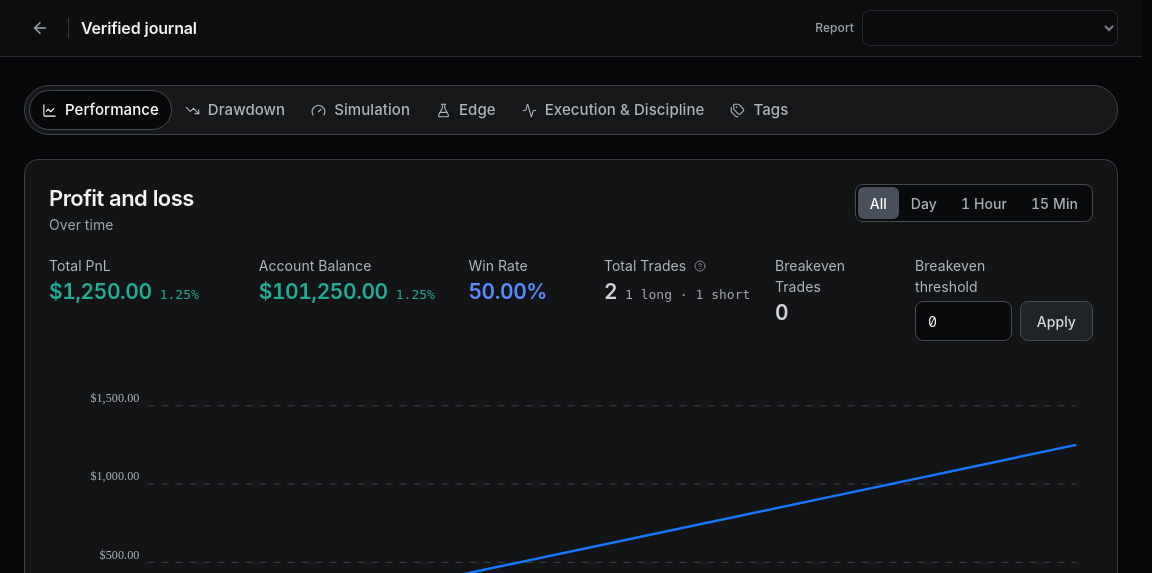
Test: Decision Intelligence registration › loads both decision tabs from their backend endpoints
Click the tab "Edge" at (466, 110), box x1=423 y1=90 x2=509 y2=130
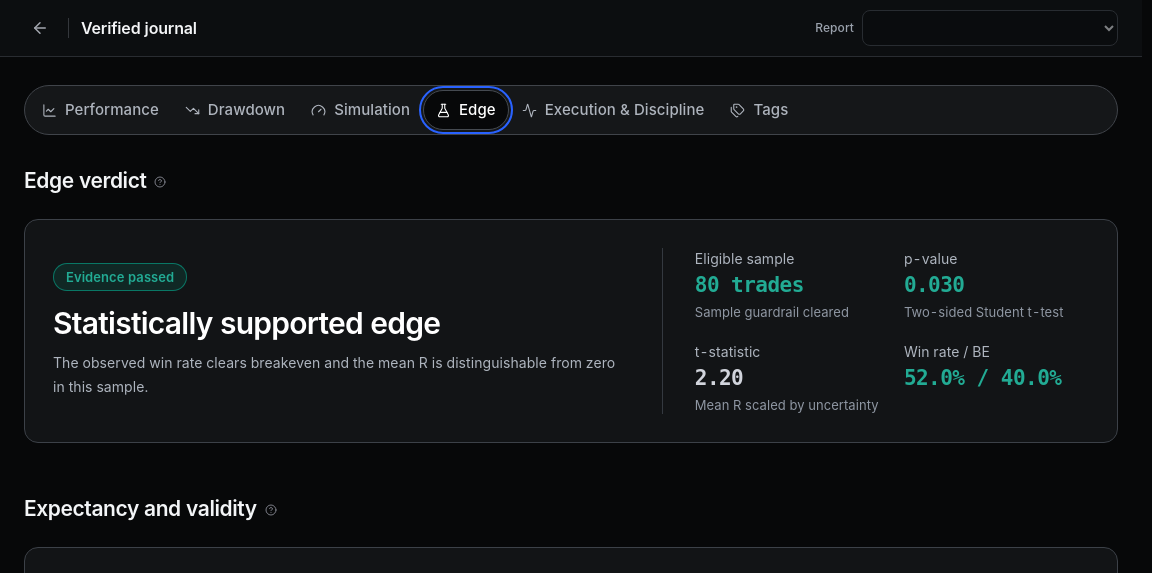
Check: the heading "Edge verdict" is shown, box x1=24 y1=167 x2=170 y2=195
Click the tab "Execution & Discipline" at (613, 110), box x1=509 y1=90 x2=717 y2=130
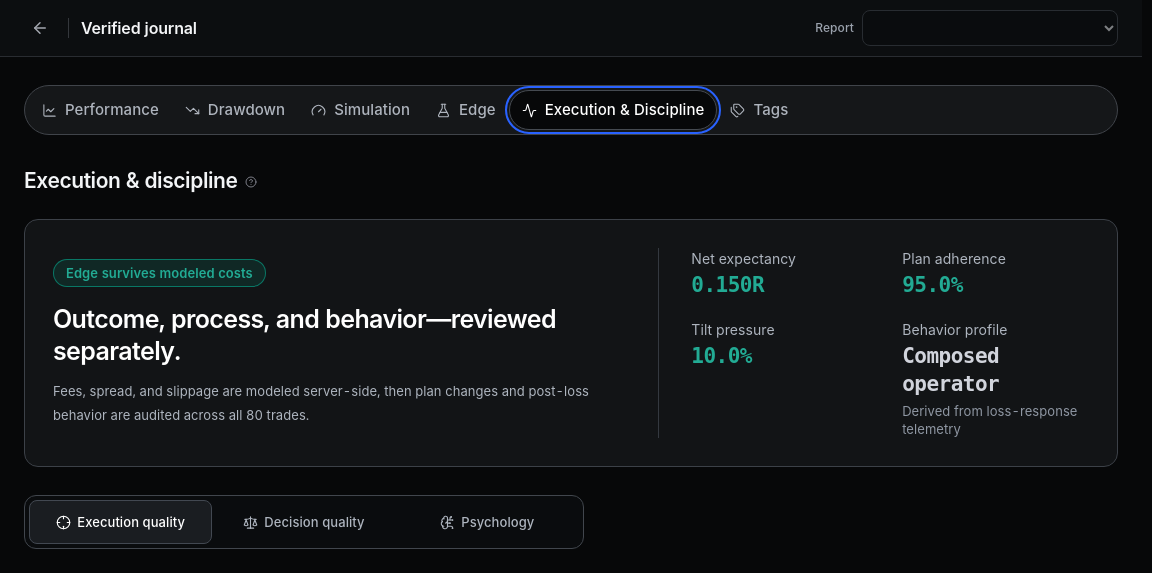
Check: the heading "Execution & discipline" is shown, box x1=24 y1=167 x2=262 y2=195
